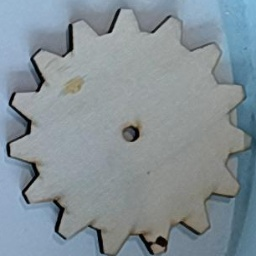Points: (145, 233, 172, 247)
